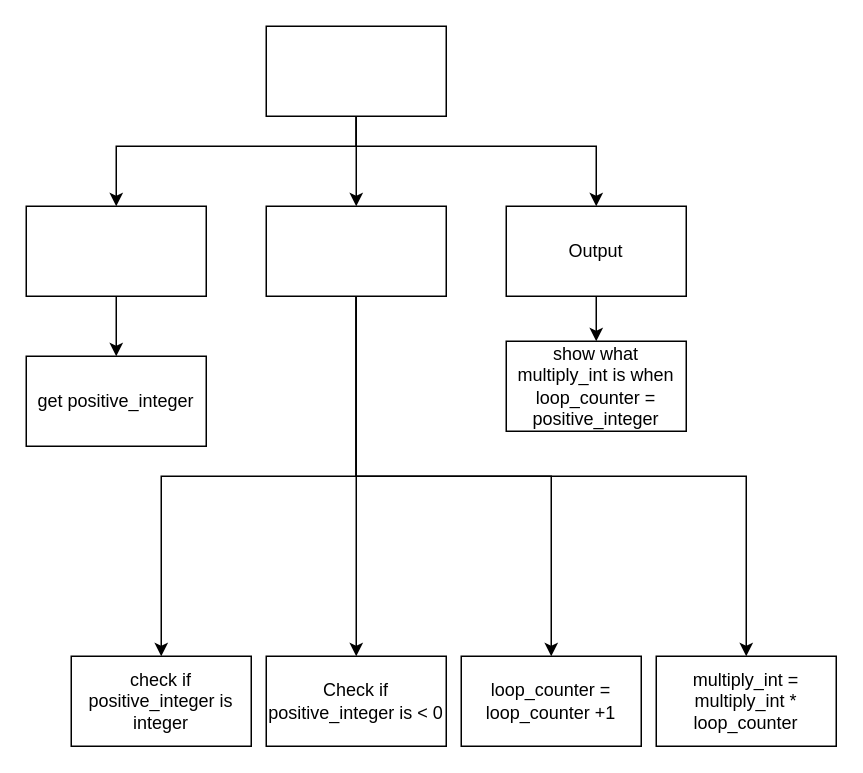
Some shapes in this 863 by 773 pixel diagram are drawn without their labels. The shapes that lost their labels are listed below. From the top down, each one's centre as x and y in pixels, then its label:
At pixel 355 70: "while loops".
At pixel 115 250: "Input".
At pixel 355 250: "Process".
